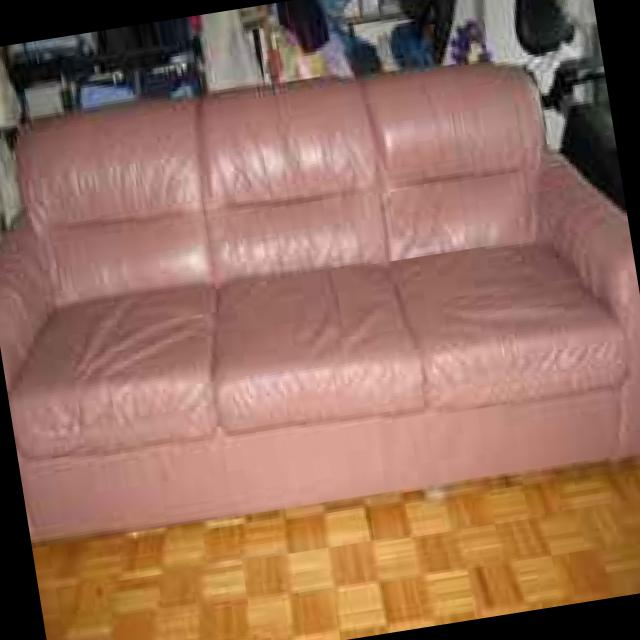floor -X: (0, 132, 640, 640)
sofa bed: (0, 61, 640, 540)
